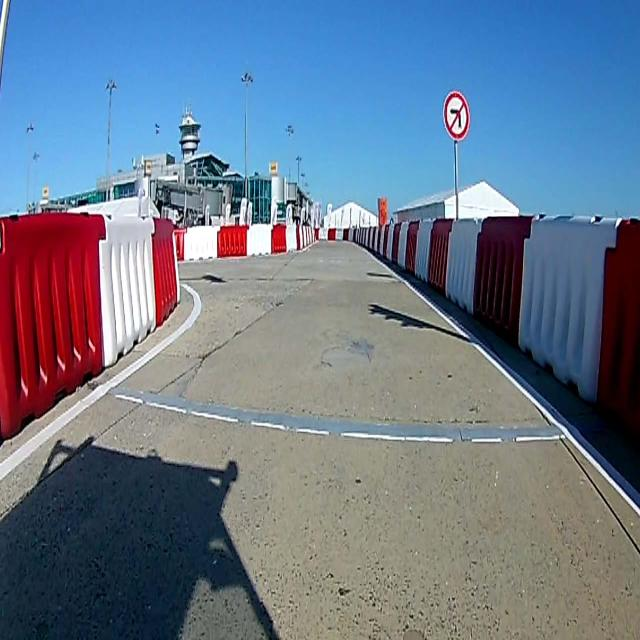soladonulmez: (443, 92, 469, 140)
